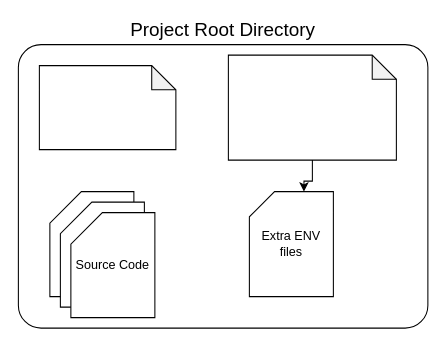
Image size: 446x346. Some labels were removed from this diagram. Here are the shapes that lost their labels. From the top down, the box of each, then its label:
(38, 65, 176, 150): Dockerfile
(227, 54, 396, 160): .dockerignore
